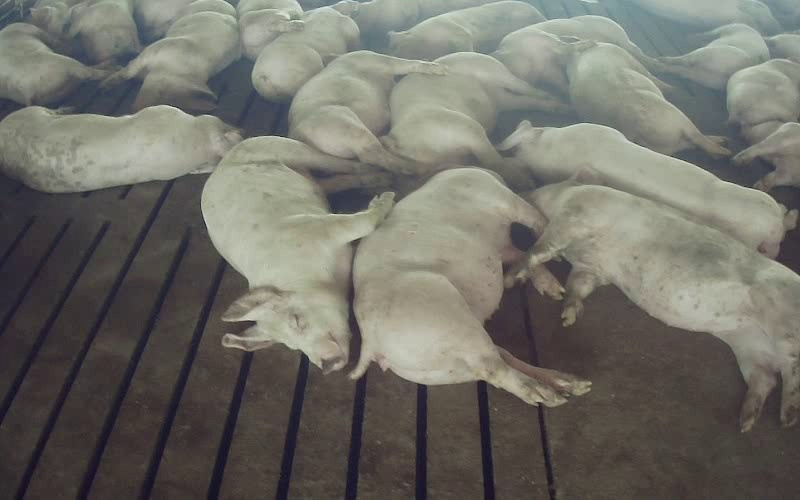pig: (512, 164, 799, 430), (351, 168, 588, 404), (201, 136, 393, 372), (498, 120, 784, 257), (381, 52, 564, 170), (0, 105, 240, 192), (566, 41, 729, 155), (289, 51, 445, 170), (492, 15, 655, 94), (252, 0, 359, 101), (388, 0, 544, 59), (659, 23, 769, 89), (727, 59, 799, 125)
